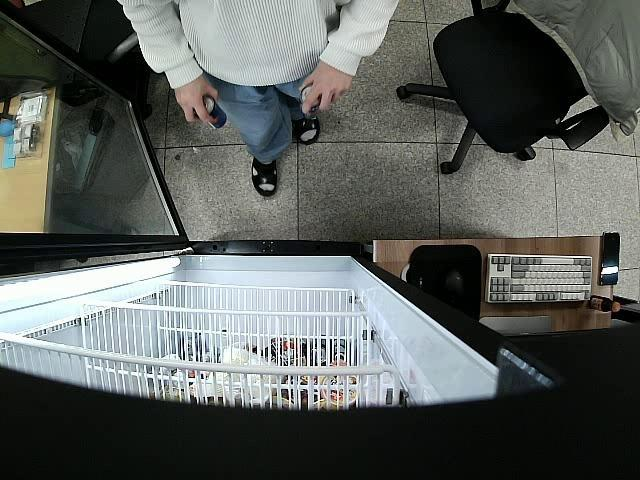16_hot6: (195, 96, 227, 130), (300, 84, 323, 119)
